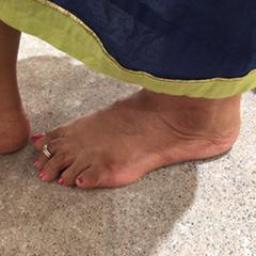Lateral View -Left Foot-: (28, 81, 250, 197)
